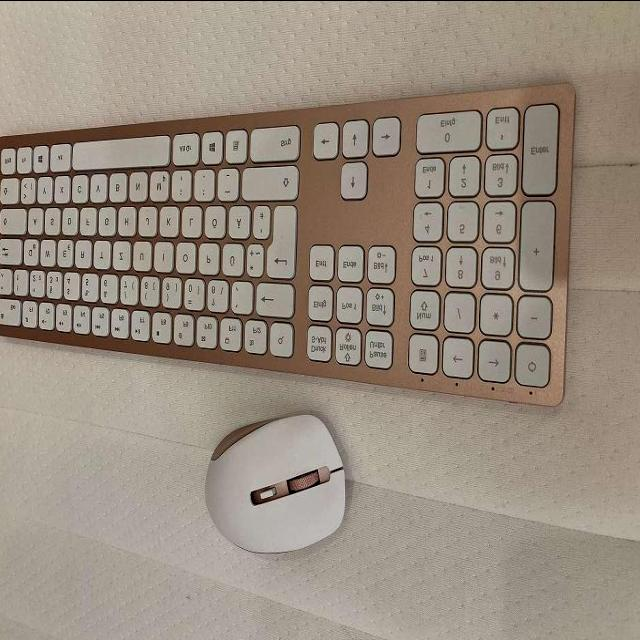0: (183, 275, 203, 308)
1: (12, 266, 30, 297)
2: (27, 266, 45, 297)
3: (45, 268, 63, 299)
4: (63, 268, 81, 299)
5: (81, 270, 99, 301)
6: (98, 271, 116, 302)
7: (119, 273, 139, 305)
8: (140, 274, 160, 306)
9: (160, 275, 180, 307)
a: (27, 204, 45, 235)
accent: (230, 279, 252, 313)
ae: (227, 203, 249, 237)
alt-left: (50, 142, 72, 170)
altgr-right: (172, 131, 200, 165)
b: (107, 169, 125, 201)
c: (70, 172, 88, 203)
caret: (0, 265, 12, 294)
comma: (172, 169, 191, 200)
d: (61, 205, 79, 236)
del: (255, 281, 295, 317)
e: (56, 238, 73, 267)
enter: (264, 202, 297, 278)
f: (79, 205, 97, 236)
g: (96, 204, 114, 235)
h: (116, 204, 134, 235)
hash: (252, 204, 272, 238)
i: (152, 239, 171, 271)
j: (137, 205, 156, 236)
k: (159, 205, 178, 236)
keyboard: (0, 66, 581, 420)
l: (180, 203, 200, 236)
less: (19, 174, 37, 205)
m: (150, 169, 169, 200)
minus: (215, 166, 237, 200)
n: (128, 170, 146, 202)
o: (174, 239, 194, 272)
oe: (202, 203, 224, 237)
p: (197, 240, 218, 274)
plus: (245, 242, 265, 276)
point: (192, 166, 213, 200)
q: (22, 236, 39, 265)
r: (73, 237, 90, 266)
s: (43, 206, 61, 237)
shift-left: (0, 176, 20, 204)
shift-lock: (0, 205, 27, 233)
shift-right: (241, 164, 299, 200)
space: (70, 133, 170, 171)
ss: (206, 277, 227, 311)
strg-left: (0, 146, 15, 174)
strg-right: (249, 123, 301, 161)
t: (92, 238, 109, 268)
tab: (1, 236, 23, 265)
u: (131, 238, 150, 270)
ue: (220, 241, 242, 275)
v: (90, 172, 108, 204)
w: (39, 237, 56, 266)
x: (53, 173, 71, 204)
y: (35, 174, 53, 205)
z: (112, 239, 132, 271)
